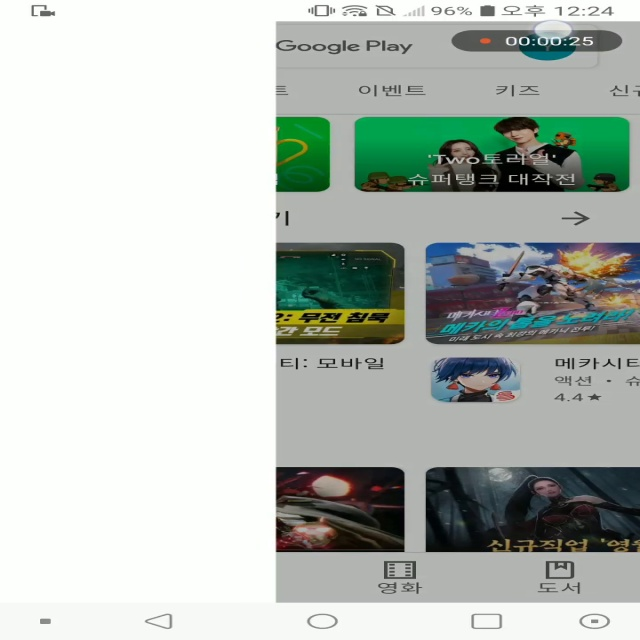Cursor: (532, 19, 576, 41)
